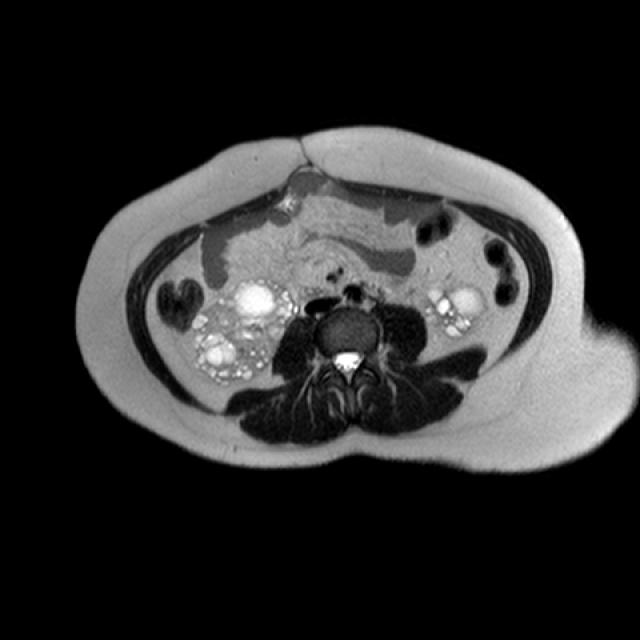sag: (192, 274, 295, 390)
sol: (422, 283, 486, 337)
